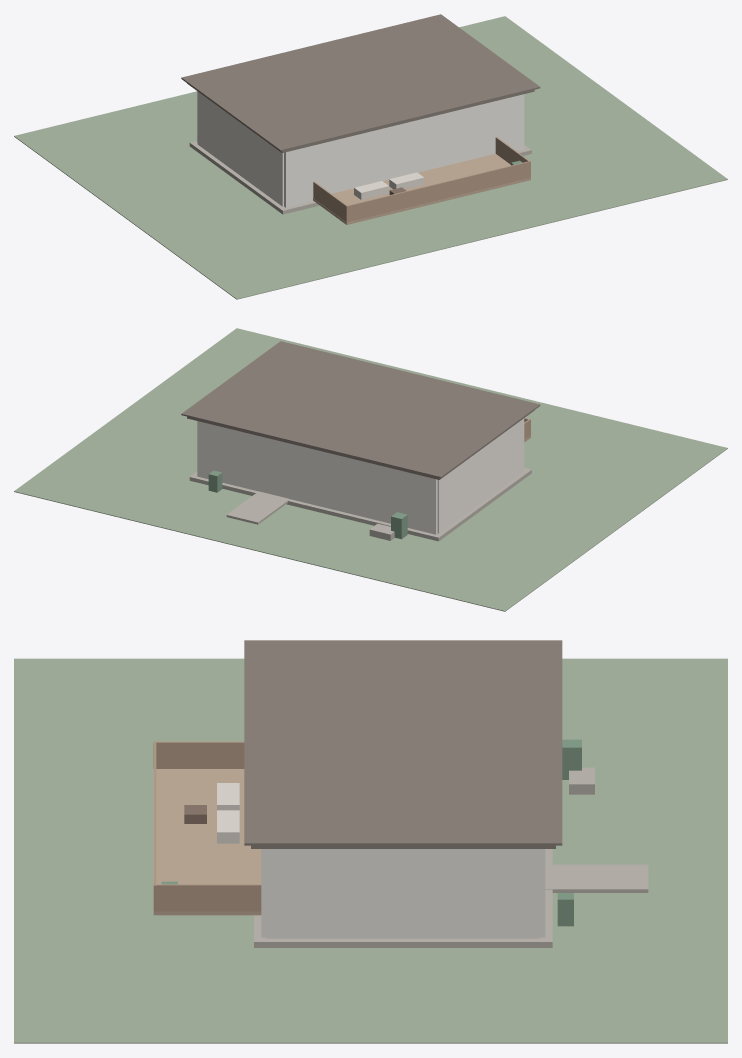
File: villa.glb
3 renders of one model, top to bottom at view 1: azimuth 30°, elevation 25°; view 2: azimuth 150°, elevation 25°; view 3: azimuth 270°, elevation 25°, orthographic. The views are drawn at different scales.
Visible parts, largest first — view 1: eksterior, dek; view 2: eksterior; view 3: eksterior, dek.
Boxes of the visible parts, bbox=[...] form: eksterior: bbox=[14, 14, 727, 299]; dek: bbox=[313, 137, 530, 224]; eksterior: bbox=[14, 328, 727, 611]; eksterior: bbox=[14, 640, 727, 1043]; dek: bbox=[153, 741, 261, 915].
Bounding box in the file's own units: 28 × 3.75 × 22.
